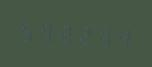five: (17, 16, 35, 44), (94, 20, 112, 48)
four: (113, 21, 131, 49)
nine: (36, 17, 54, 45)
two: (56, 18, 74, 46), (75, 19, 93, 47)
